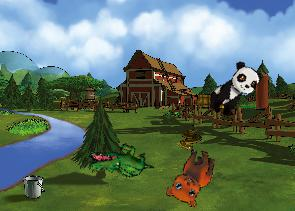bear: (163, 143, 217, 209)
crocodile: (87, 136, 154, 187)
panda: (203, 57, 265, 123)
